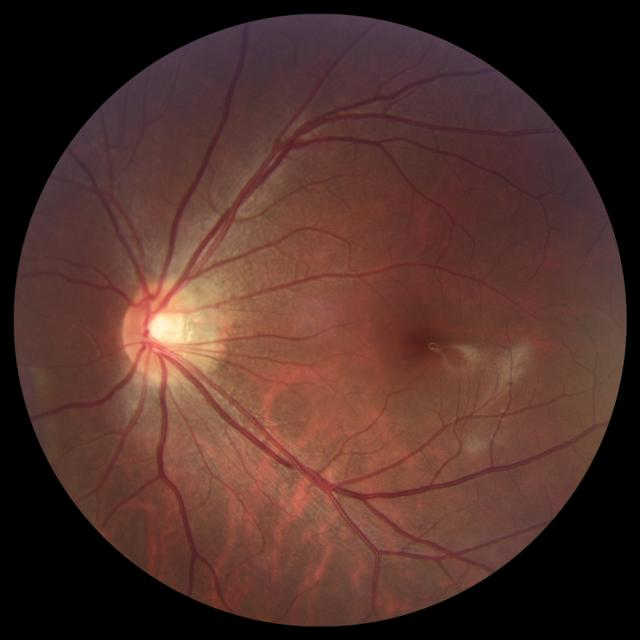OC: (145, 309, 184, 349)
OD: (122, 279, 190, 377)
